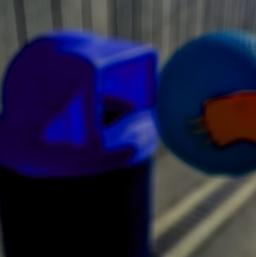algae: (151, 25, 256, 172)
